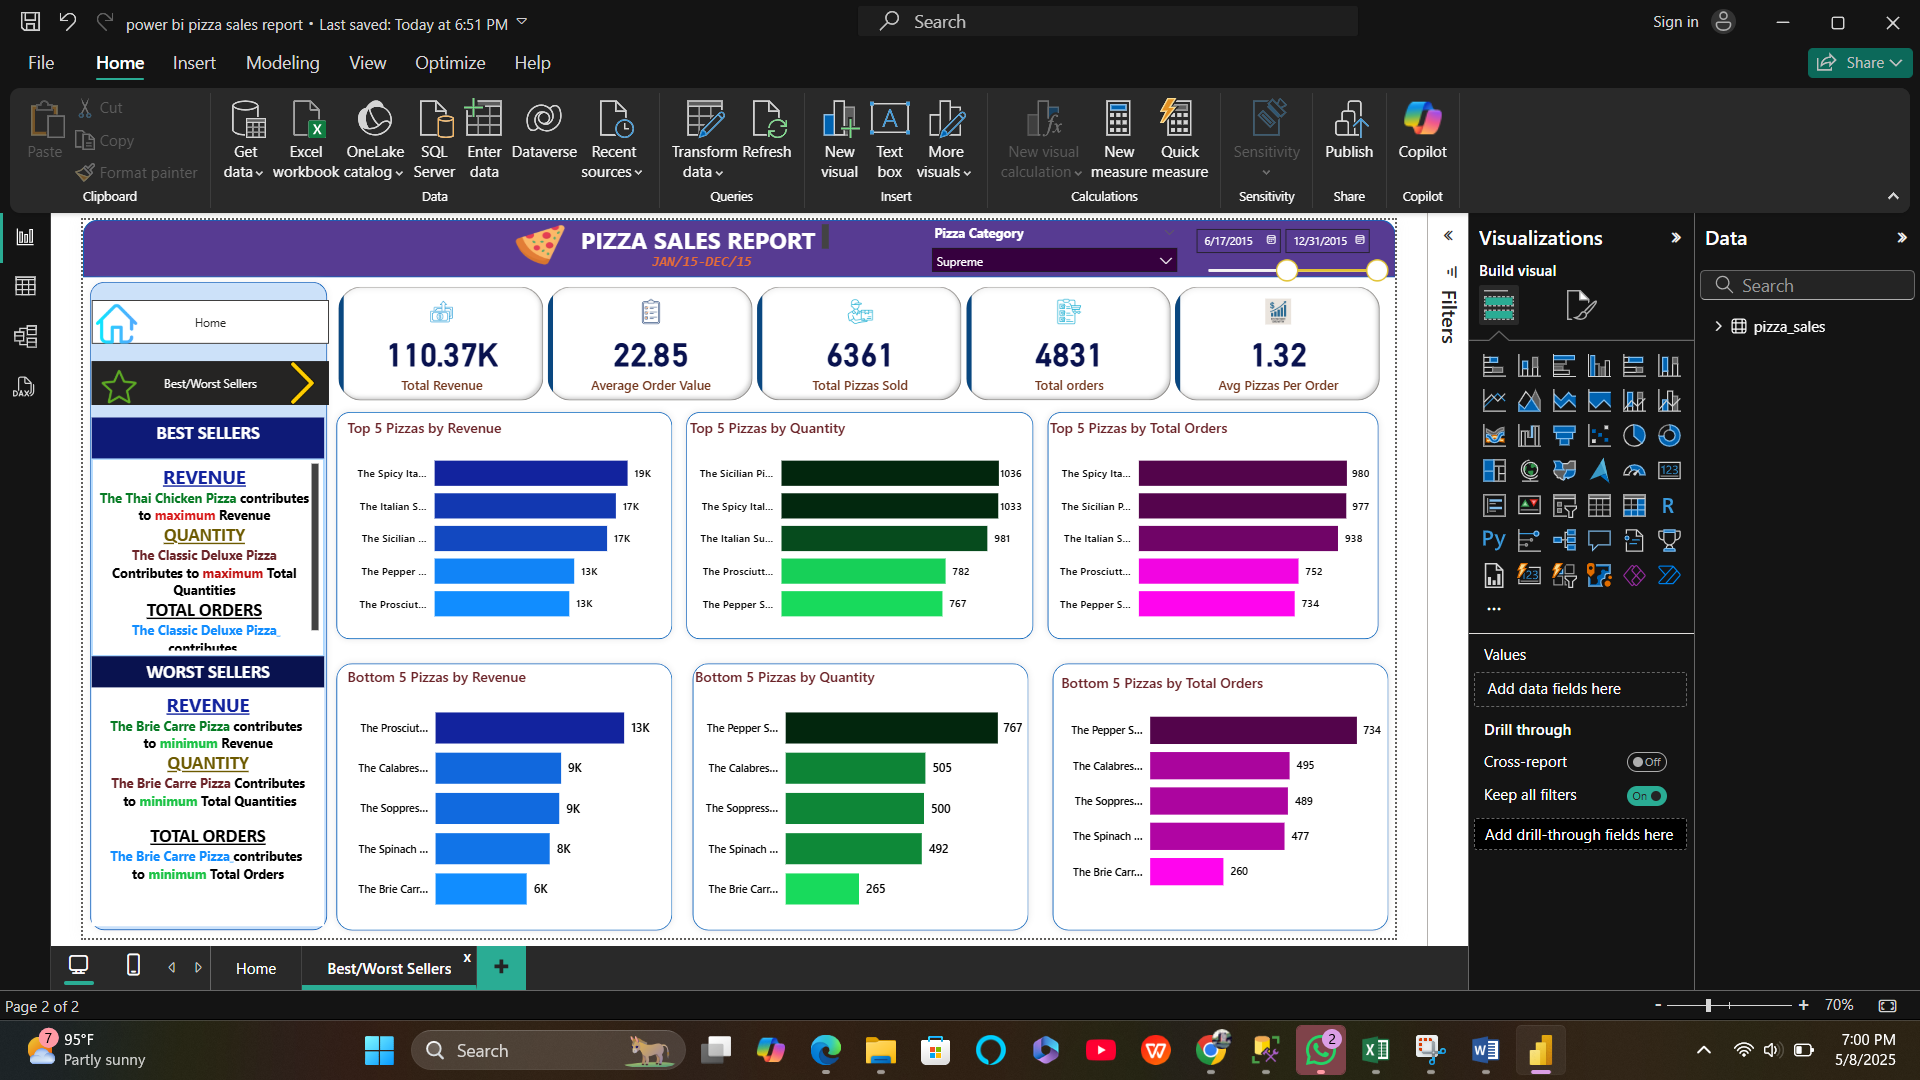

The dashboard page shown, as its layout file describes it:
{"tool":"powerbi","page":{"name":"Best/Worst Sellers","canvas":[1500,820],"ordinal":1},"visuals":[{"type":"cardVisual","fields":{"Data":["pizza_sales.Total Revenue","pizza_sales.Average Order Value","pizza_sales.Total Pizzas Sold","pizza_sales.Total orders","pizza_sales.Avg Pizzas Per Order"]},"box":[287.1,71.4,1201.4,140],"z":0},{"type":"shape","box":[0,0,1500,65.7],"z":1000},{"type":"textbox","box":[628.6,32.9,157.1,30],"z":2000},{"type":"textbox","box":[557.1,0,300,41.4],"z":3000},{"type":"image","box":[488.6,0,68.6,57.1],"z":4000},{"type":"shape","box":[281.4,211.4,400,275.7],"z":5000},{"type":"shape","box":[0,62.9,287.1,757.1],"z":6000},{"type":"textbox","box":[10,225.7,265.7,47.1],"z":7000},{"type":"textbox","box":[10,272.9,265.7,225.7],"z":8000},{"type":"textbox","box":[10,498.6,265.7,35.7],"z":9000},{"type":"textbox","box":[10,534.3,265.7,272.9],"z":10000},{"type":"slicer","fields":{"Values":["pizza_sales.pizza_category"]},"box":[960,0,300,65.7],"z":11000},{"type":"slicer","fields":{"Values":["pizza_sales.order_date"]},"box":[1260,0,240,71.4],"z":12000},{"type":"shape","box":[681.4,211.4,412.9,275.7],"z":13000},{"type":"shape","box":[1094.3,211.4,394.3,275.7],"z":14000},{"type":"shape","box":[281.4,498.6,400,321.4],"z":15000},{"type":"shape","box":[688.6,498.6,400,321.4],"z":16000},{"type":"shape","box":[1100,498.6,400,321.4],"z":17000},{"type":"barChart","title":"Top 5 Pizzas by Revenue","fields":{"Category":["pizza_sales.pizza_name"],"Y":["pizza_sales.Total Revenue"]},"box":[297.1,225.7,370,248.6],"z":18000},{"type":"barChart","title":"Bottom 5 Pizzas by Revenue","fields":{"Category":["pizza_sales.pizza_name"],"Y":["pizza_sales.Total Revenue"]},"box":[297.1,510,371.4,297.1],"z":19000},{"type":"barChart","title":"Top 5 Pizzas by Quantity","fields":{"Y":["pizza_sales.Total Pizzas Sold"],"Category":["pizza_sales.pizza_name"]},"box":[688.6,225.7,390,248.6],"z":20000},{"type":"barChart","title":"Bottom 5 Pizzas by Quantity","fields":{"Y":["pizza_sales.Total Pizzas Sold"],"Category":["pizza_sales.pizza_name"]},"box":[694.3,510,384.3,297.1],"z":21000},{"type":"barChart","title":"Top 5 Pizzas by Total Orders","fields":{"Category":["pizza_sales.pizza_name"],"Y":["pizza_sales.Total orders"]},"box":[1100,225.7,375.7,248.6],"z":22000},{"type":"barChart","title":"Bottom 5 Pizzas by Total Orders","fields":{"Category":["pizza_sales.pizza_name"],"Y":["pizza_sales.Total orders"]},"box":[1112.9,517.1,375.7,265.7],"z":23000},{"type":"pageNavigator","box":[10,161.4,271.4,50],"z":24000},{"type":"pageNavigator","box":[10,91.4,271.4,50],"z":25000},{"type":"image","box":[220,157.1,61.4,58.6],"z":26000},{"type":"image","box":[10,21.4,57.1,194.3],"z":27000},{"type":"image","box":[15.7,165.7,51.4,50],"z":28000}]}

Visuals, with their boxes on the page's 1500x820 design canvas (x1, y1, x2, y2). These are canvas units, not pixel positions in the 1920x1080 screenshot, which may show the page scaled, cropped or inside an application window:
cardVisual - pizza_sales.Total Revenue x pizza_sales.Average Order Value: select_region(287, 71, 1488, 211)
shape: select_region(0, 0, 1500, 66)
textbox: select_region(629, 33, 786, 63)
textbox: select_region(557, 0, 857, 41)
image: select_region(489, 0, 557, 57)
shape: select_region(281, 211, 681, 487)
shape: select_region(0, 63, 287, 820)
textbox: select_region(10, 226, 276, 273)
textbox: select_region(10, 273, 276, 499)
textbox: select_region(10, 499, 276, 534)
textbox: select_region(10, 534, 276, 807)
slicer - pizza_sales.pizza_category: select_region(960, 0, 1260, 66)
slicer - pizza_sales.order_date: select_region(1260, 0, 1500, 71)
shape: select_region(681, 211, 1094, 487)
shape: select_region(1094, 211, 1489, 487)
shape: select_region(281, 499, 681, 820)
shape: select_region(689, 499, 1089, 820)
shape: select_region(1100, 499, 1500, 820)
"Top 5 Pizzas by Revenue" barChart: select_region(297, 226, 667, 474)
"Bottom 5 Pizzas by Revenue" barChart: select_region(297, 510, 668, 807)
"Top 5 Pizzas by Quantity" barChart: select_region(689, 226, 1079, 474)
"Bottom 5 Pizzas by Quantity" barChart: select_region(694, 510, 1079, 807)
"Top 5 Pizzas by Total Orders" barChart: select_region(1100, 226, 1476, 474)
"Bottom 5 Pizzas by Total Orders" barChart: select_region(1113, 517, 1489, 783)
pageNavigator: select_region(10, 161, 281, 211)
pageNavigator: select_region(10, 91, 281, 141)
image: select_region(220, 157, 281, 216)
image: select_region(10, 21, 67, 216)
image: select_region(16, 166, 67, 216)
